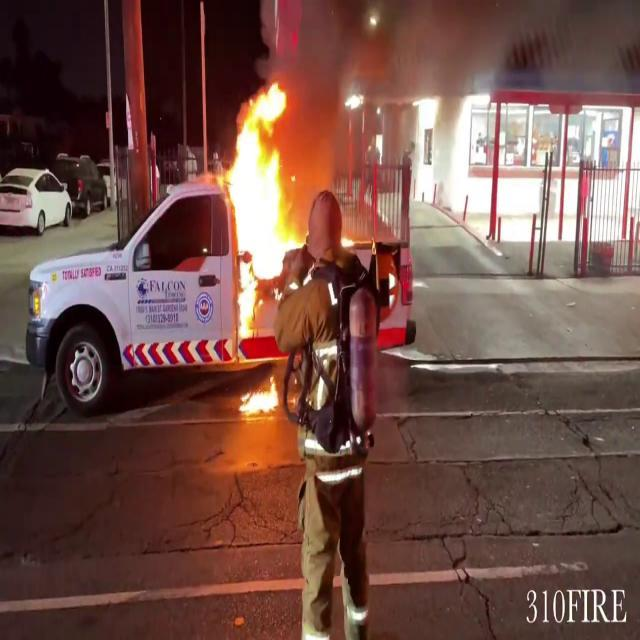Fire: (221, 70, 301, 340), (236, 373, 282, 423)
